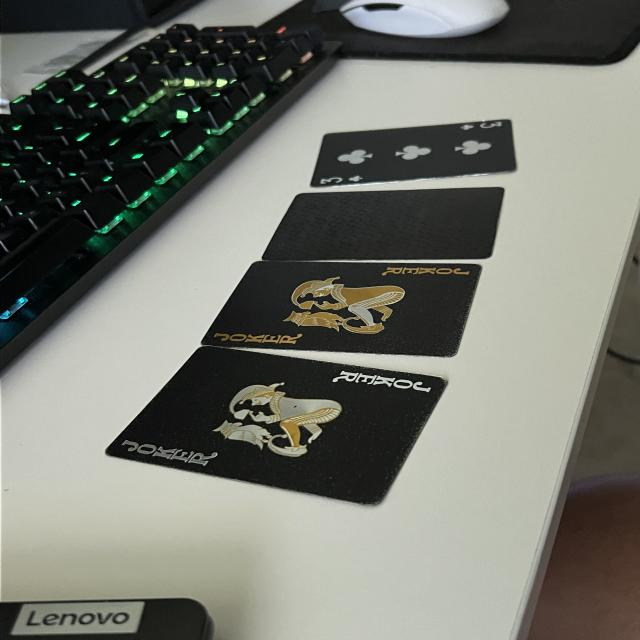3C: (321, 171, 368, 187), (457, 119, 505, 134)
BACK: (259, 185, 509, 260)
BLACK JOKER: (110, 438, 229, 472), (331, 366, 439, 395)
RED JOKER: (209, 332, 310, 351), (377, 260, 477, 278)
